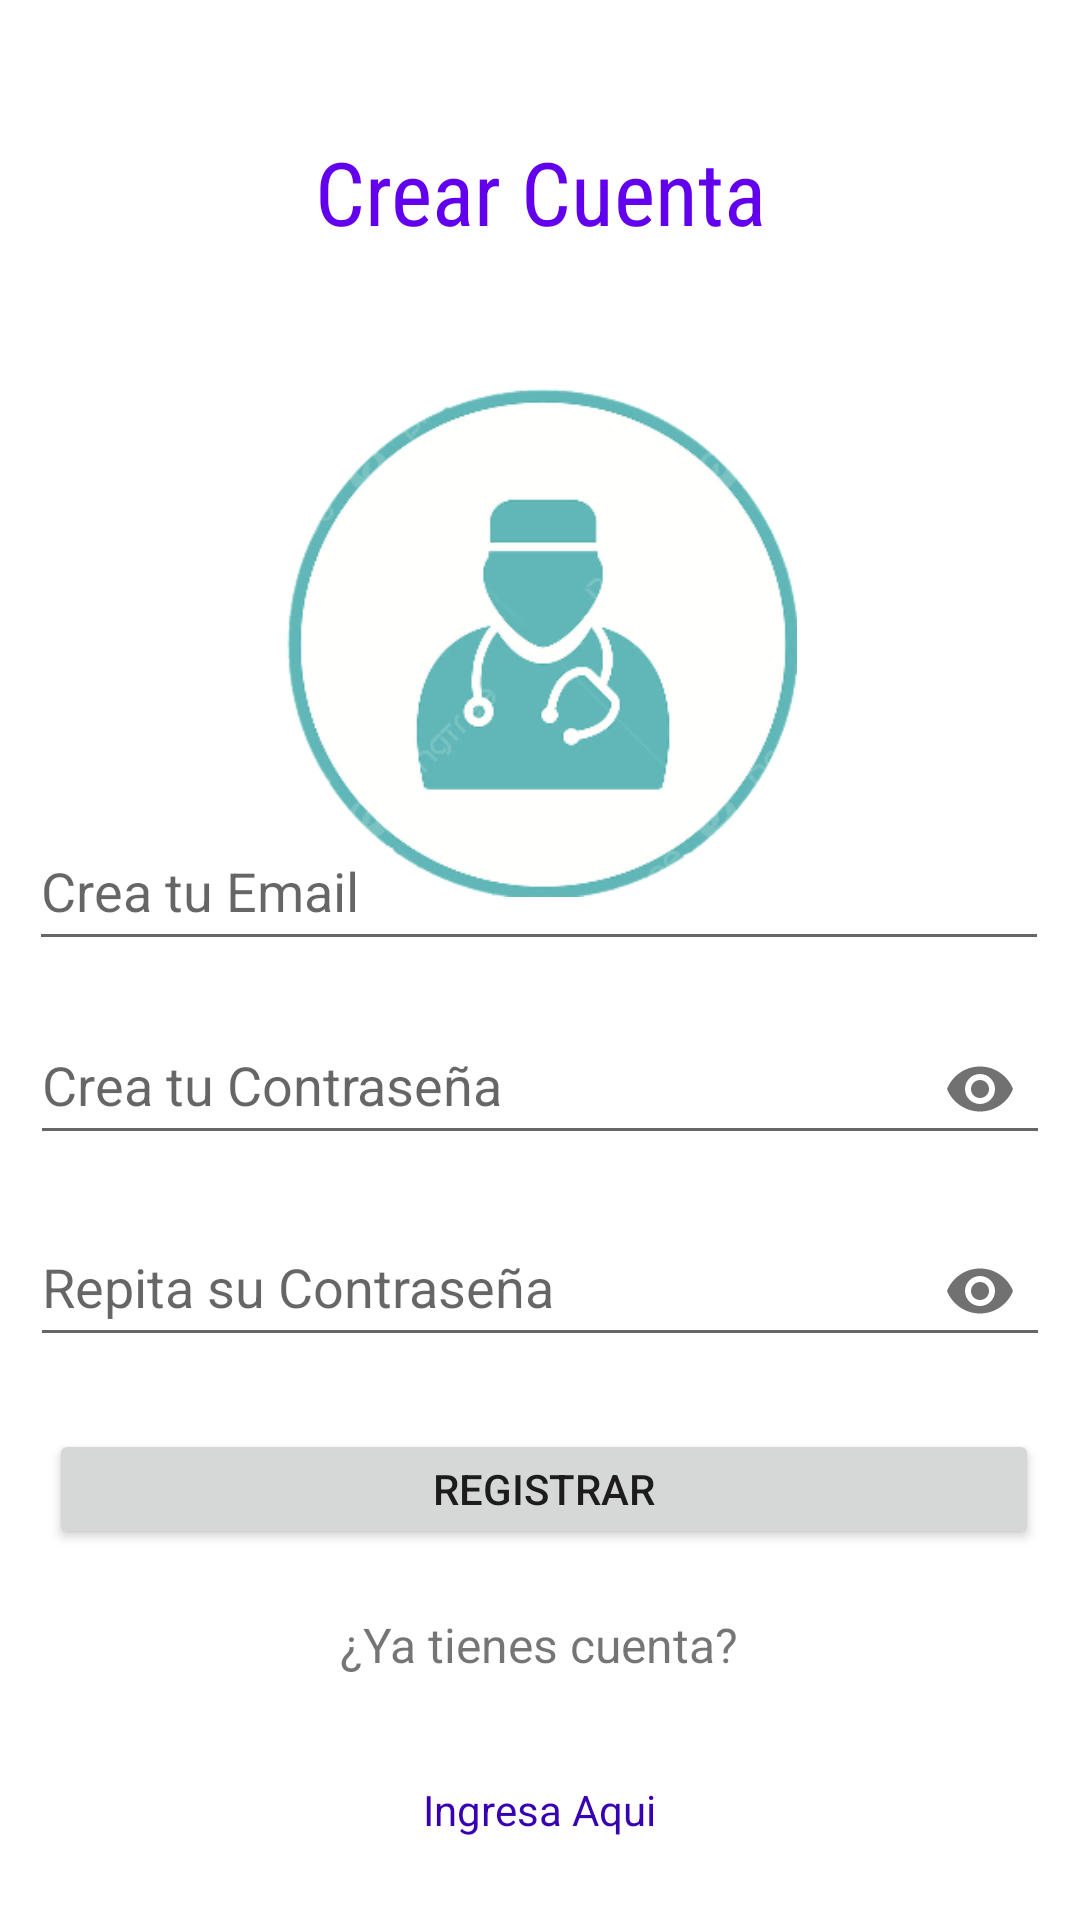

Locate icon controls on the screen. Image size 1080×1920, boxes as (x1=x1, y1=y1, x2=x2, y2=y2).
open eye: (x1=947, y1=1066, x2=1013, y2=1112), (x1=947, y1=1268, x2=1013, y2=1314)
